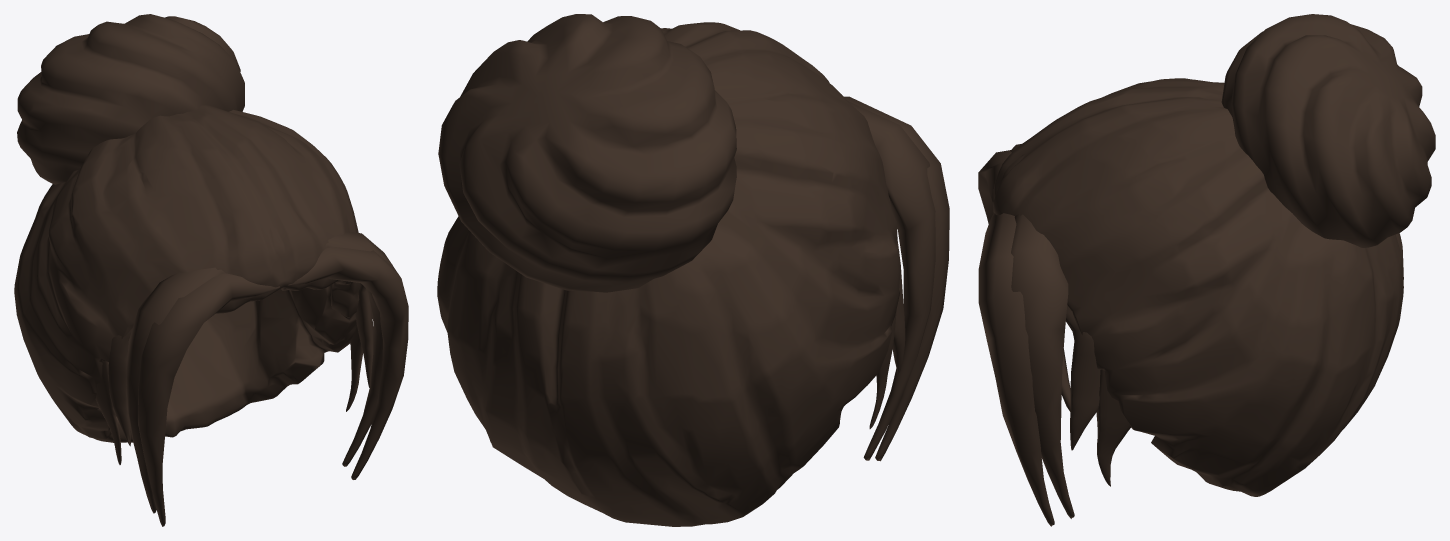
The model's file is hair_afro_male.glb.
3 renders of one model, left to right at view 1: azimuth 30°, elevation 25°; view 2: azimuth 150°, elevation 25°; view 3: azimuth 270°, elevation 25°, orthographic. The views are drawn at different scales.
Parts seen in each view (by area): view 1: hair_afro_male; view 2: hair_afro_male; view 3: hair_afro_male.
Boxes of the visible parts, x1,y1,x2,y2 form: hair_afro_male: (14,14,408,526); hair_afro_male: (437,14,949,526); hair_afro_male: (978,14,1435,526).
Size of the model in its own units: 0.1957 by 0.2564 by 0.2387.
